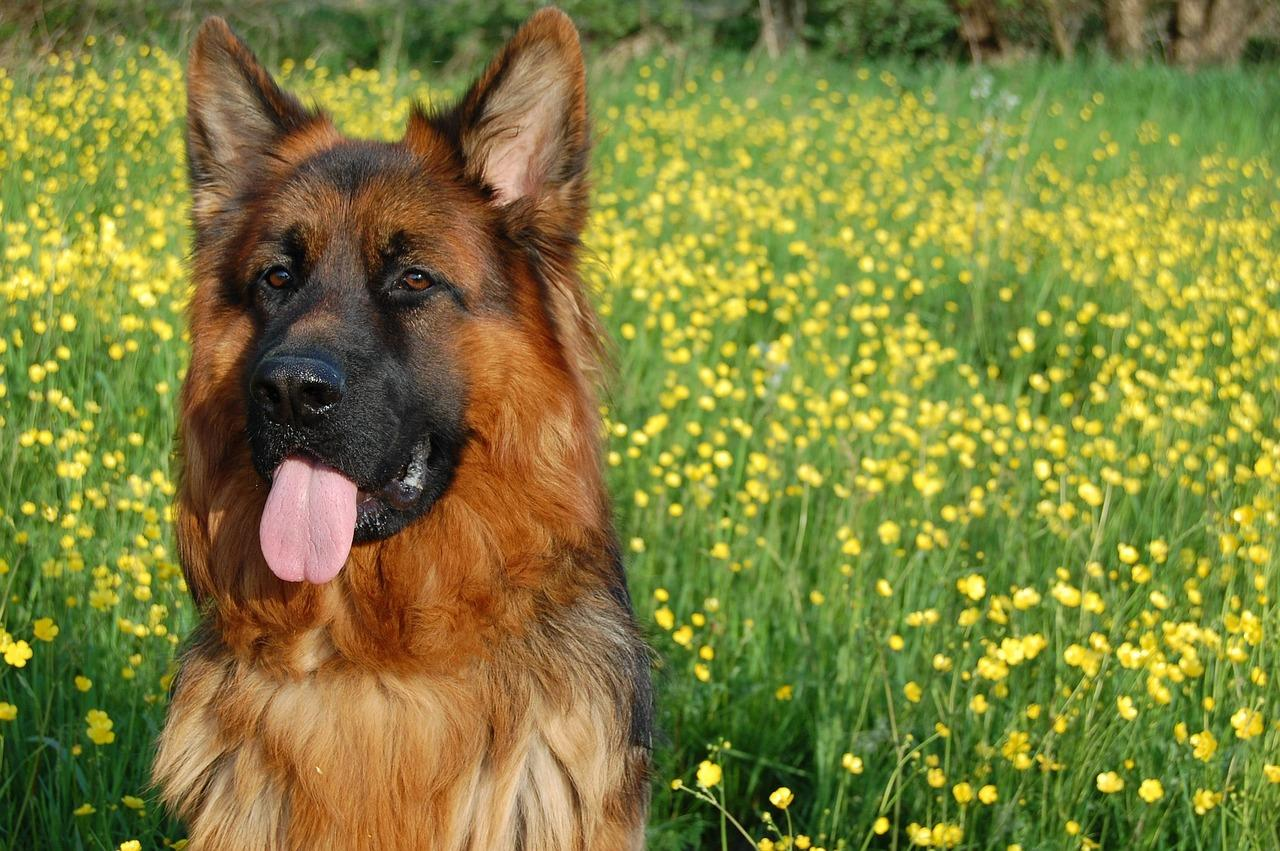german_shepherd: (134, 30, 614, 606)
